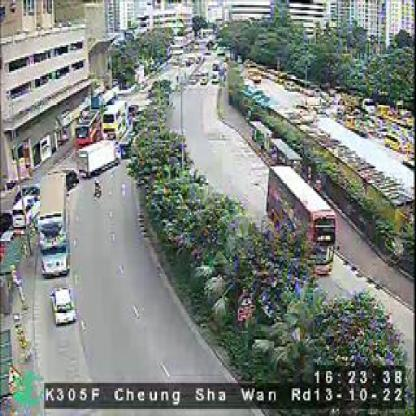Bus: (266, 164, 338, 284), (35, 168, 73, 280), (75, 111, 102, 147)
Car: (52, 284, 78, 326)
Truck: (77, 139, 122, 182)
